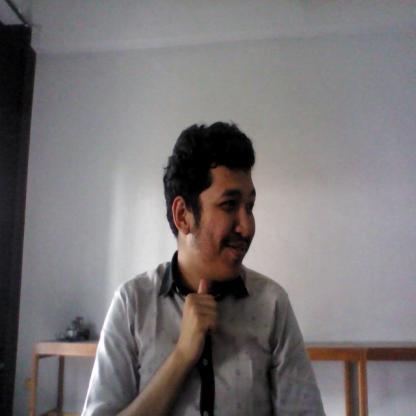Siapa: (174, 274, 224, 366)
